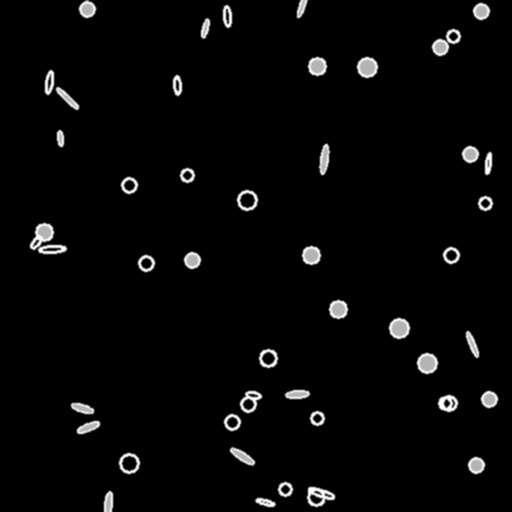pseudomonas: (55, 86, 79, 110), (229, 446, 255, 466), (308, 486, 334, 500), (465, 331, 479, 357), (76, 420, 100, 434), (70, 402, 94, 414), (319, 145, 329, 173), (28, 234, 44, 250), (295, 0, 309, 18), (44, 70, 54, 94), (39, 245, 65, 253), (200, 18, 210, 38), (103, 492, 113, 512), (256, 497, 274, 507), (286, 390, 308, 398), (223, 6, 231, 26), (245, 390, 261, 400), (173, 75, 181, 95), (484, 153, 492, 173), (57, 130, 63, 146)
synechocystis: (390, 319, 408, 337), (120, 454, 138, 472), (238, 191, 256, 209), (358, 58, 376, 76), (418, 354, 436, 372), (36, 224, 52, 240), (260, 350, 276, 366), (309, 58, 325, 74), (303, 247, 319, 263), (308, 489, 324, 505), (330, 301, 346, 317), (122, 178, 136, 192), (442, 396, 456, 410), (225, 415, 239, 429), (80, 2, 94, 16), (469, 458, 483, 472), (463, 147, 477, 161), (474, 4, 488, 18), (444, 248, 458, 262), (139, 256, 153, 270), (433, 40, 447, 54), (241, 397, 255, 411), (482, 392, 496, 406), (185, 253, 199, 267), (279, 483, 291, 495), (439, 397, 451, 409), (181, 169, 193, 181), (311, 412, 323, 424), (447, 30, 459, 42), (479, 197, 491, 209)
